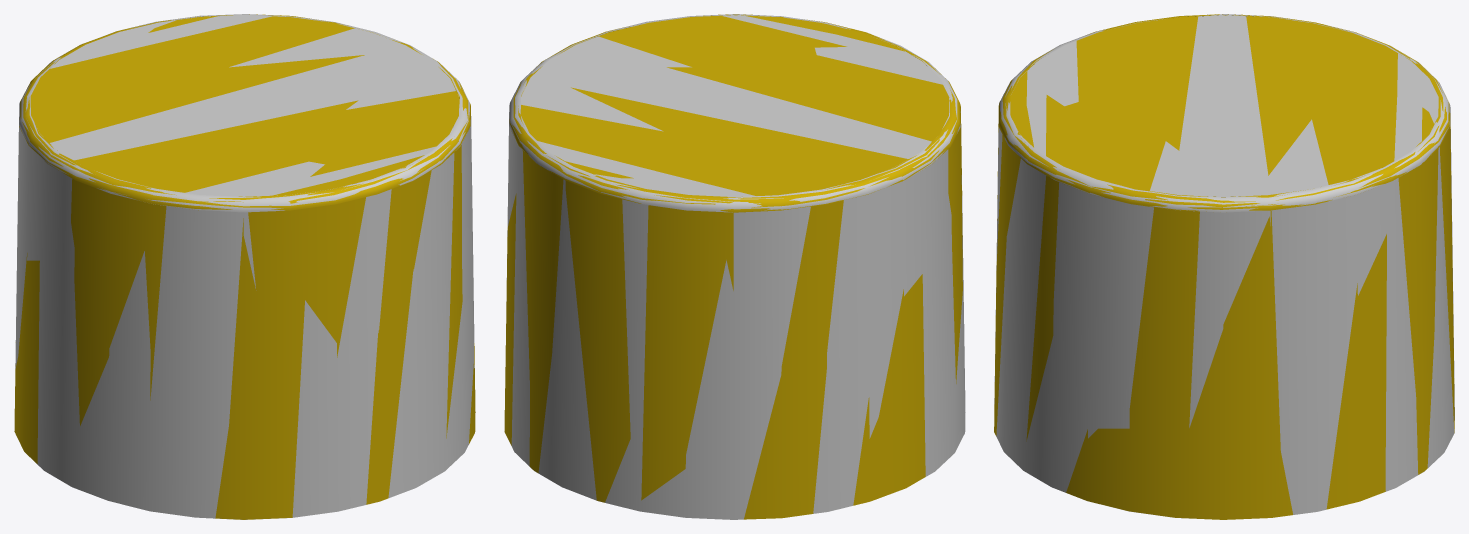
File: original-6.obj
3 renders of one model, left to right at view 1: azimuth 30°, elevation 25°; view 2: azimuth 150°, elevation 25°; view 3: azimuth 270°, elevation 25°, orthographic.
Visible parts, largest first — view 1: #ID39; view 2: #ID39; view 3: #ID39.
Part boxes in pixels (x1,y1,x2,y2): #ID39: (14, 14, 475, 519); #ID39: (504, 14, 965, 519); #ID39: (994, 14, 1454, 519).
Size of the model in its own units: 0.2997 by 0.2259 by 0.2982.
